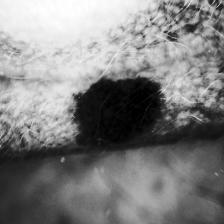Benign Marking or Mole: (77, 83, 159, 148)
